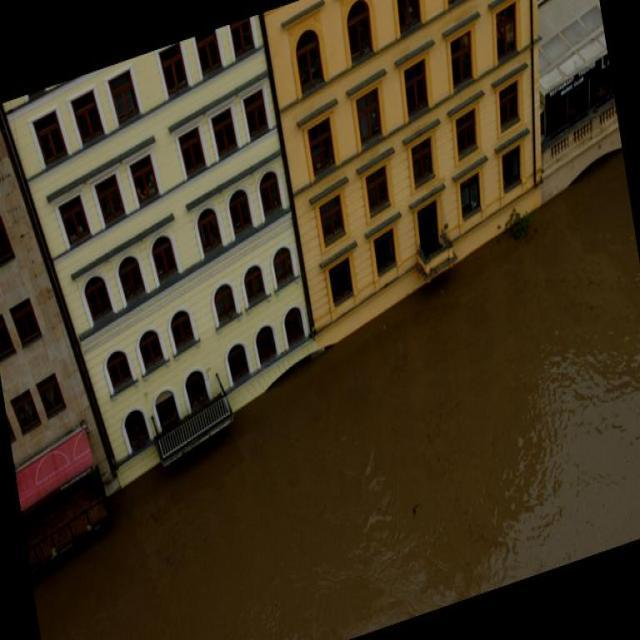flood: (1, 168, 639, 639)
